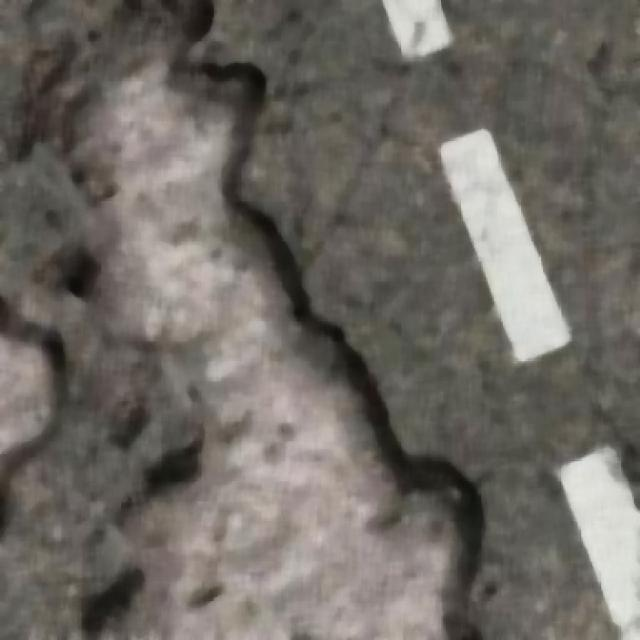Pothole: (0, 0, 495, 640)
